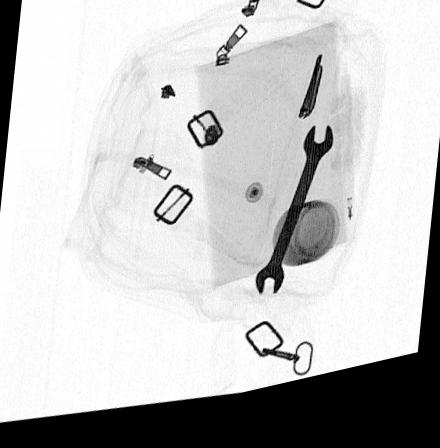Wrench: (252, 138, 334, 308)
